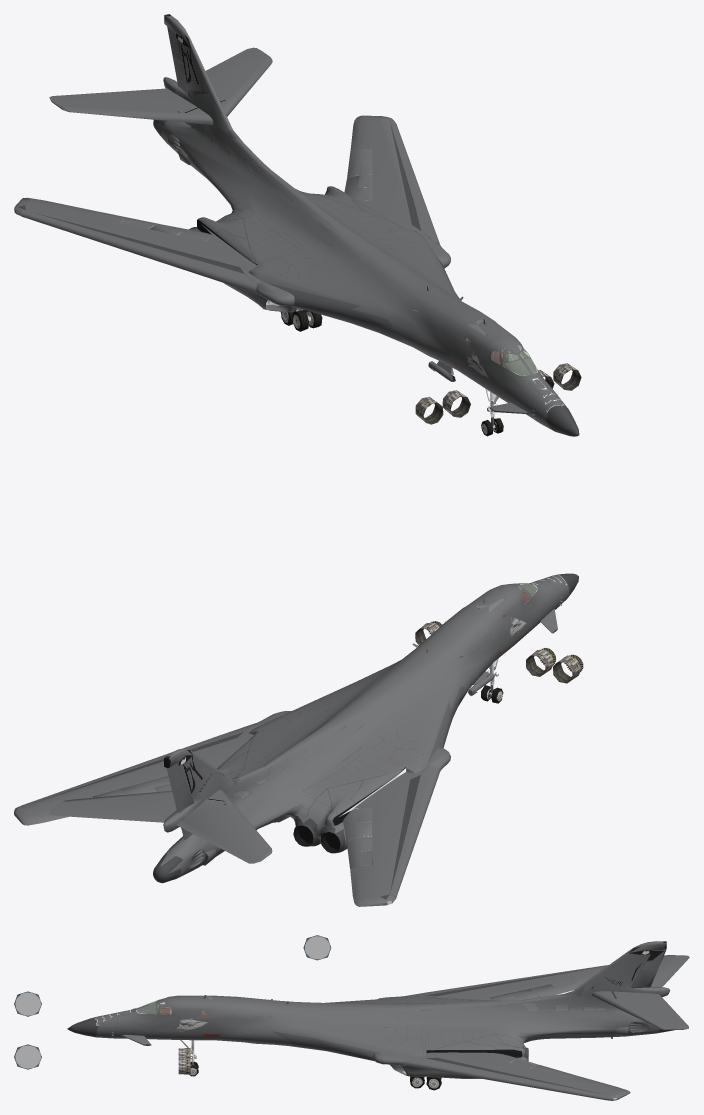
The model's file is bomber_b1b.glb.
The picture shows the model from 3 angles, top to bottom: view 1: azimuth 30°, elevation 25°; view 2: azimuth 150°, elevation 25°; view 3: azimuth 270°, elevation 25°; orthographic projection. The views are drawn at different scales.
Visible parts, largest first — view 1: Cylinder; view 2: Cylinder; view 3: Cylinder.
Boxes of the visible parts, box(x1,y1,x2,y2) form: Cylinder: box(14, 14, 581, 436); Cylinder: box(14, 573, 583, 906); Cylinder: box(14, 935, 689, 1100).
Bounding box in the file's own units: 20.89 × 10.21 × 44.5.
Materials: 14 (10 with a texture image).
